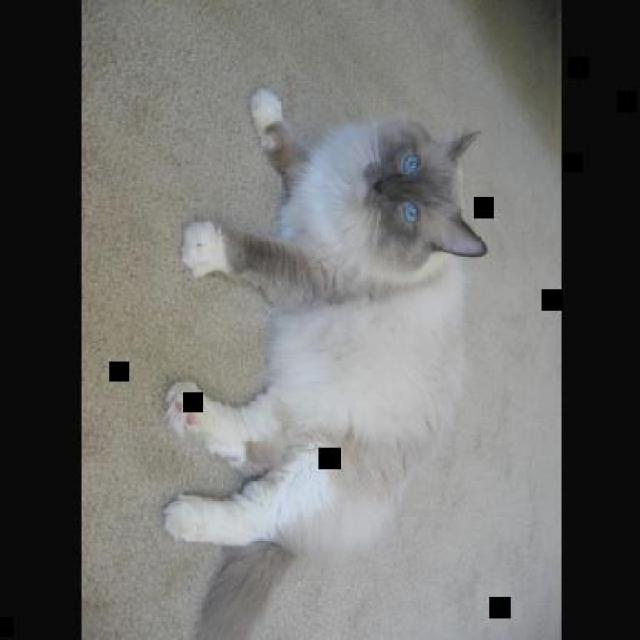unauthorized: (158, 86, 488, 639)
